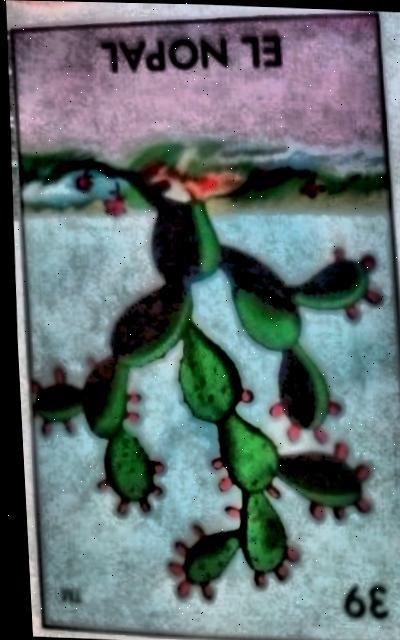El Nopal: (7, 14, 400, 640)
